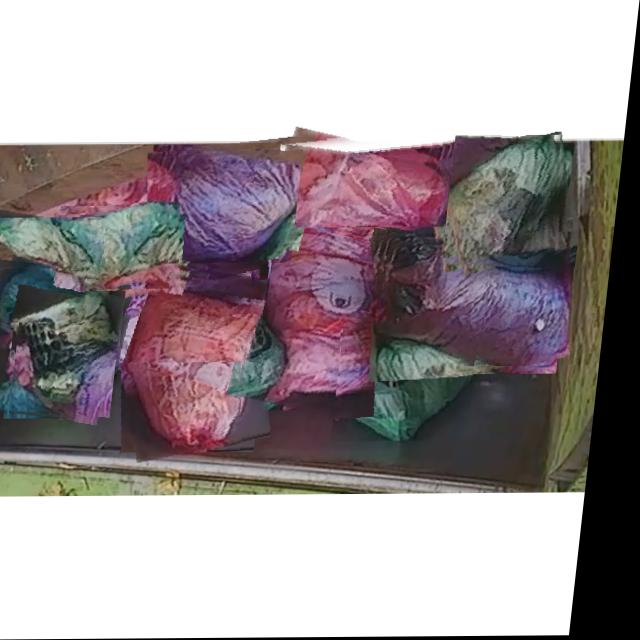general_trashbag: (345, 318, 479, 441), (452, 136, 564, 266), (28, 291, 128, 418), (61, 201, 176, 288), (0, 218, 106, 280), (5, 270, 91, 322)
other_trashbag: (390, 238, 577, 367), (271, 216, 390, 402), (128, 273, 251, 449), (98, 268, 274, 362), (154, 153, 304, 263), (279, 140, 451, 227)
